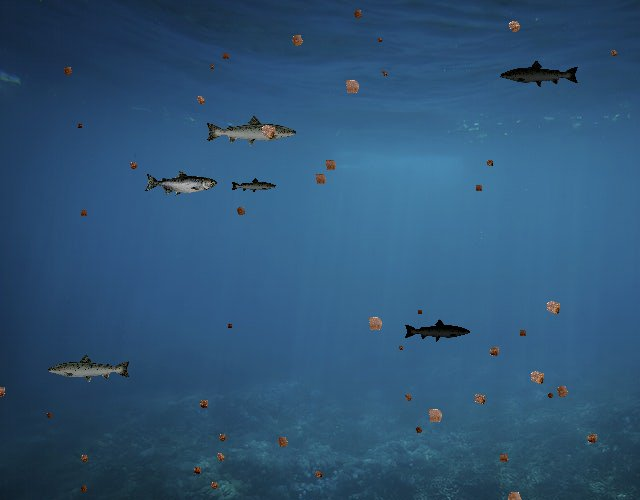Fish: (205, 115, 299, 149), (46, 353, 132, 384), (500, 59, 581, 88), (145, 171, 218, 197), (403, 319, 471, 343), (231, 177, 278, 194)
Pellet: (502, 14, 527, 39), (348, 5, 366, 22), (76, 450, 92, 466), (482, 156, 497, 170), (544, 389, 557, 402), (206, 62, 216, 72)
